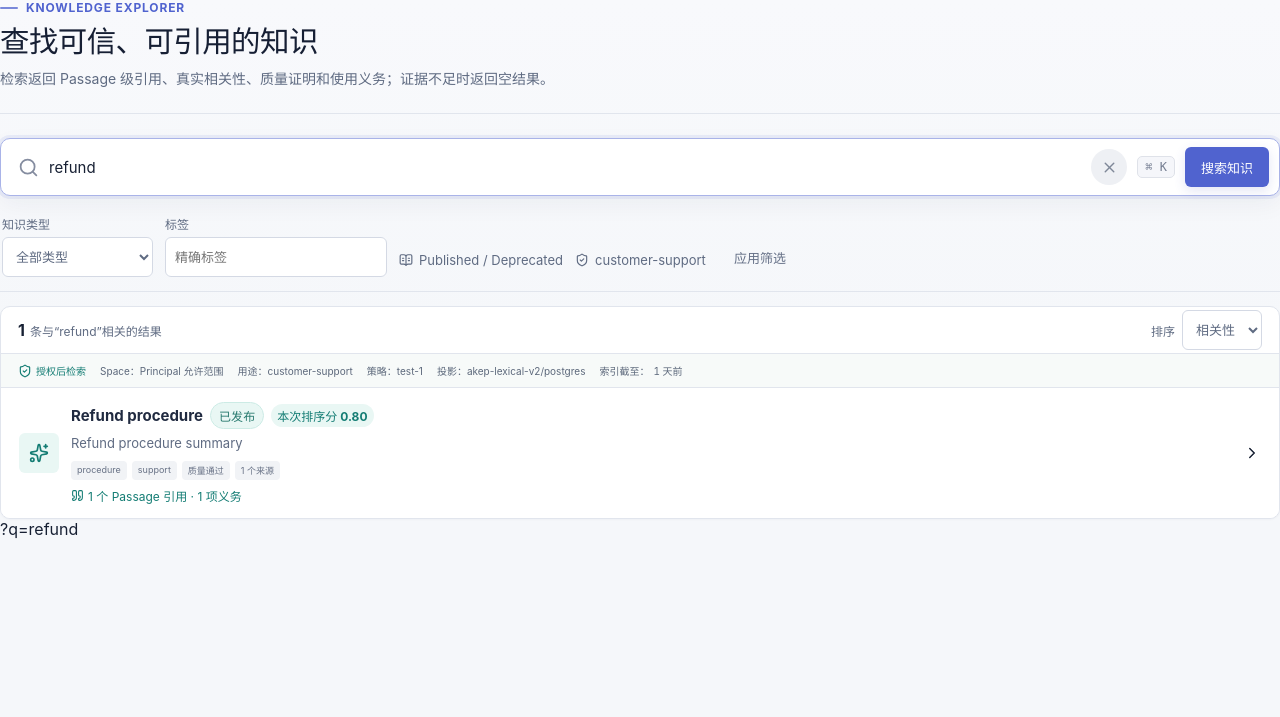
knowledge explorer request identity › opens a Query result even when the Console projection does not contain it
Click the button "Refund procedure": (640, 453) [1, 388, 1279, 518]
(page scrolled)
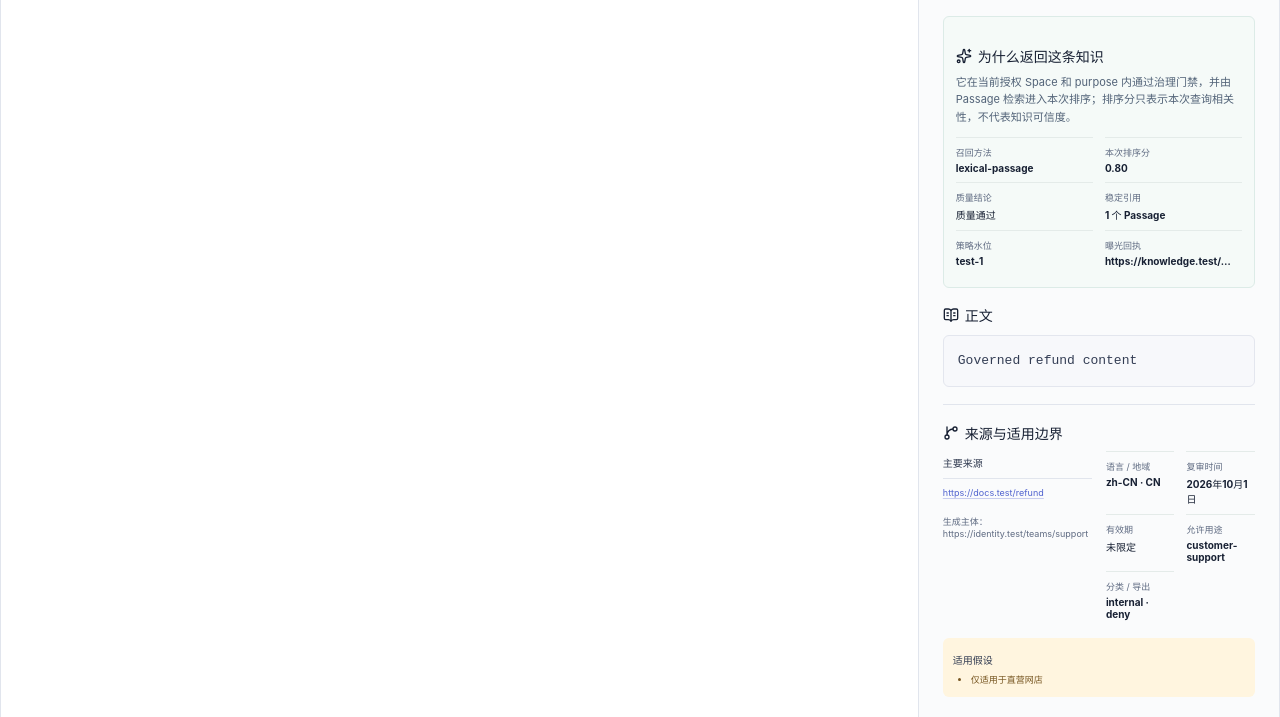
Result: the text "Governed refund content" is shown at [943, 335, 1255, 387]
